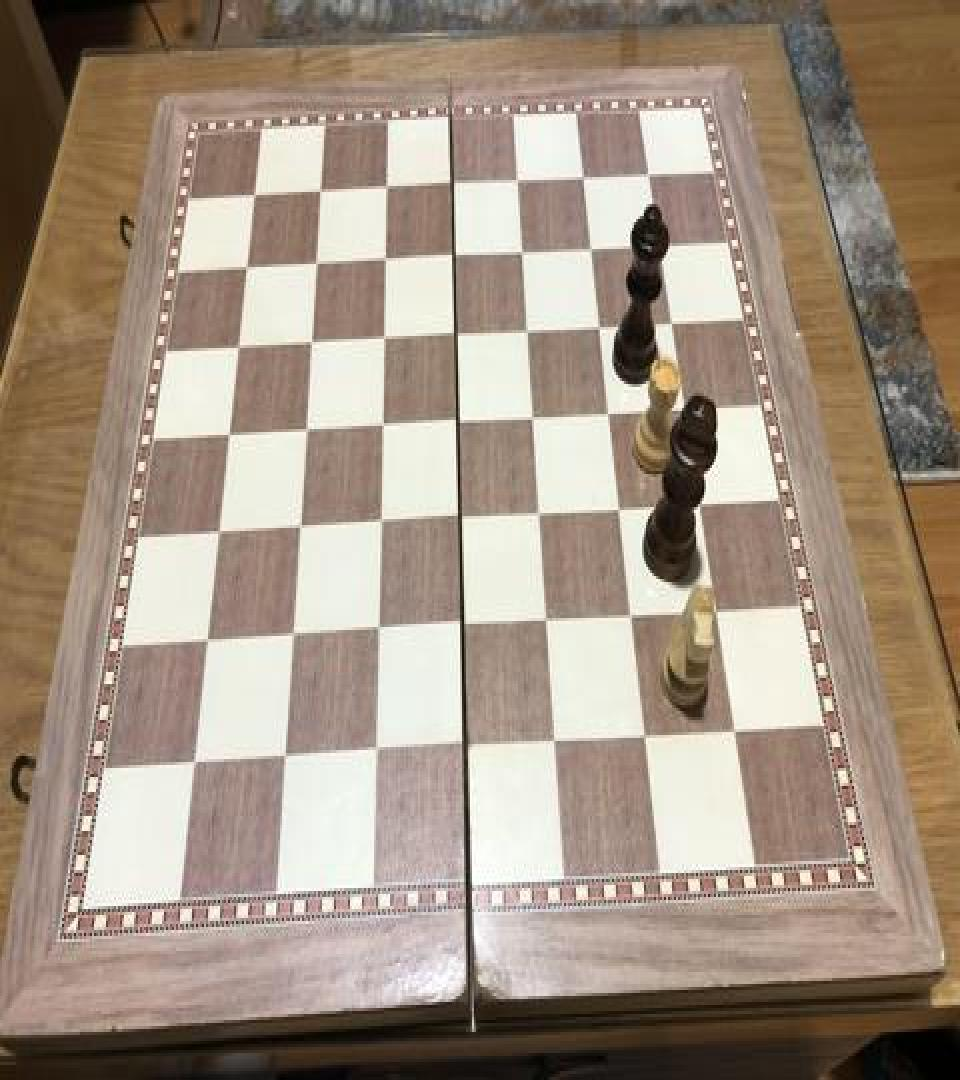xcorner: (704, 595, 728, 632), (621, 601, 645, 638), (453, 610, 477, 647), (197, 625, 221, 662), (184, 748, 208, 785), (635, 160, 659, 196), (571, 164, 595, 200), (506, 166, 530, 202), (441, 170, 465, 206), (375, 171, 399, 207), (309, 174, 333, 210), (243, 177, 267, 213), (646, 231, 670, 267), (579, 234, 603, 270), (511, 237, 535, 273), (442, 240, 466, 276), (374, 243, 398, 279), (305, 246, 329, 282), (236, 249, 260, 285), (659, 309, 683, 345), (588, 312, 612, 348), (516, 316, 540, 352), (445, 320, 469, 356), (373, 322, 397, 358), (300, 326, 324, 362), (227, 330, 251, 366), (672, 394, 696, 430), (597, 399, 621, 435), (522, 402, 546, 438), (447, 406, 471, 442), (371, 410, 395, 446), (295, 414, 319, 450), (218, 417, 242, 453), (687, 490, 711, 526), (608, 495, 632, 531), (529, 498, 553, 534), (450, 502, 474, 538), (370, 507, 394, 543), (289, 512, 313, 548), (208, 516, 232, 552), (537, 606, 561, 642), (368, 615, 392, 651), (283, 621, 307, 657), (723, 716, 747, 752), (634, 722, 658, 758), (546, 726, 570, 762), (456, 732, 480, 768), (366, 738, 390, 774), (275, 744, 299, 780)
